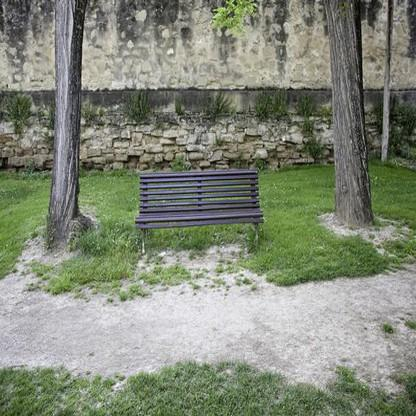obstacle: (122, 156, 272, 263)
